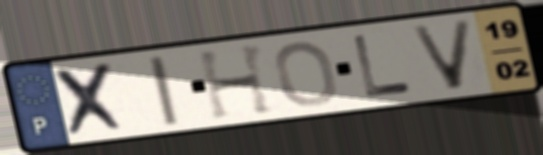H: (194, 41, 279, 123)
I: (144, 53, 183, 129)
L: (349, 33, 416, 100)
O: (271, 39, 341, 109)
V: (406, 17, 477, 93)
X: (49, 59, 134, 139)
